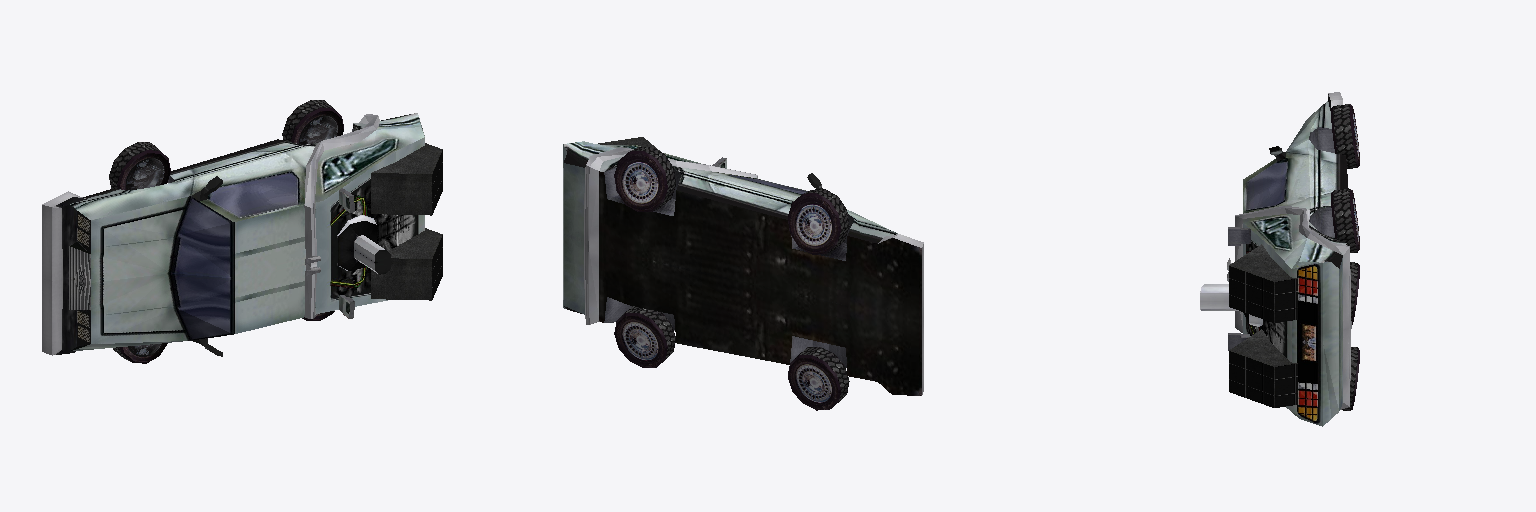
The picture shows the model from 3 angles: view 1: azimuth 30°, elevation 25°; view 2: azimuth 150°, elevation 25°; view 3: azimuth 270°, elevation 25°; orthographic projection.
Visible parts, largest first — view 1: delor, backbox01, backbox, ChamferCyl03, ChamferCyl04, ChamferCyl01; view 2: delor, ChamferCyl03, ChamferCyl04, ChamferCyl01, ChamferCyl02; view 3: delor, backbox, backbox01, ChamferCyl03, ChamferCyl04.
Part boxes in pixels (x1,y1,x2,y2): delor: (42, 113, 424, 356); backbox01: (371, 143, 442, 215); backbox: (371, 228, 442, 300); ChamferCyl03: (109, 142, 170, 189); ChamferCyl04: (282, 100, 343, 144); ChamferCyl01: (113, 343, 167, 363); delor: (563, 141, 923, 395); ChamferCyl03: (787, 189, 849, 254); ChamferCyl04: (614, 147, 675, 211); ChamferCyl01: (788, 347, 849, 410); ChamferCyl02: (614, 306, 675, 367); delor: (1200, 92, 1351, 426); backbox: (1229, 329, 1297, 407); backbox01: (1229, 244, 1297, 322); ChamferCyl03: (1331, 104, 1359, 168); ChamferCyl04: (1331, 189, 1359, 252).
Size of the model in its own units: 119 by 67.09 by 44.84.
3 materials, 3 textured.